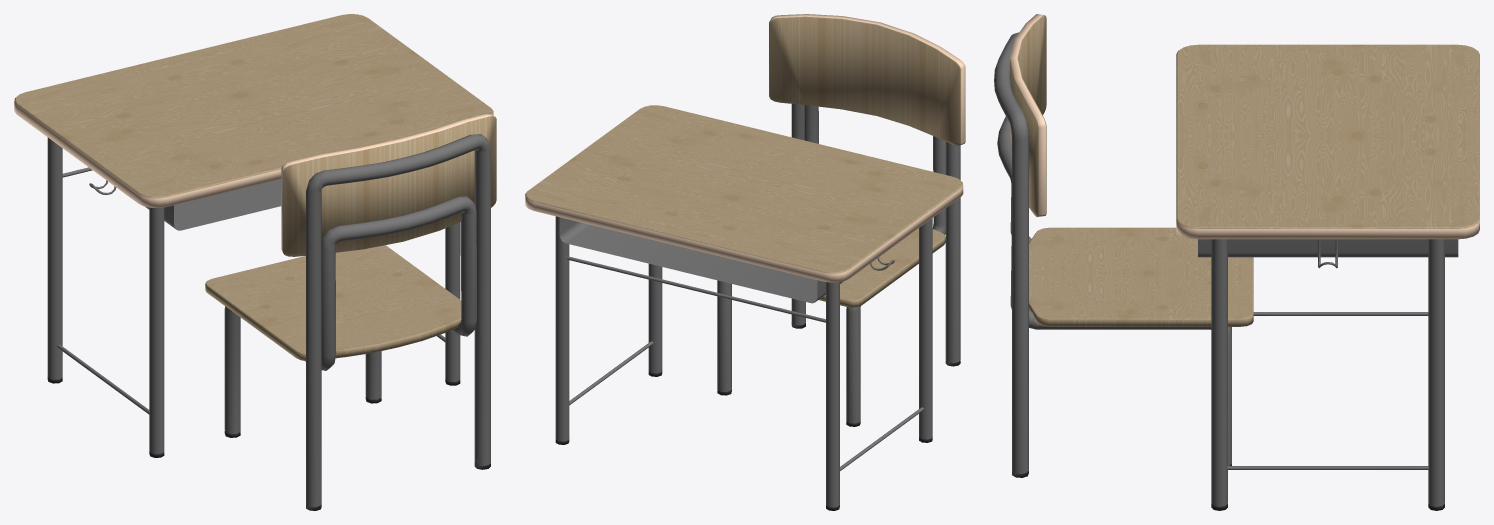
Rendered from pupitre.obj.
3 renders of one model, left to right at view 1: azimuth 30°, elevation 25°; view 2: azimuth 150°, elevation 25°; view 3: azimuth 270°, elevation 25°, orthographic. The views are drawn at different scales.
Parts seen in each view (by area): view 1: Desk_e, Chair_e; view 2: Desk_e, Chair_e; view 3: Desk_e, Chair_e.
Boxes of the visible parts, <box> form: Desk_e: <box>14,14,493,457</box>; Chair_e: <box>205,114,496,510</box>; Desk_e: <box>525,105,963,510</box>; Chair_e: <box>717,14,965,426</box>; Desk_e: <box>1176,44,1479,510</box>; Chair_e: <box>994,14,1253,477</box>.
Bounding box in the file's own units: 1 × 0.9466 × 1.12.
